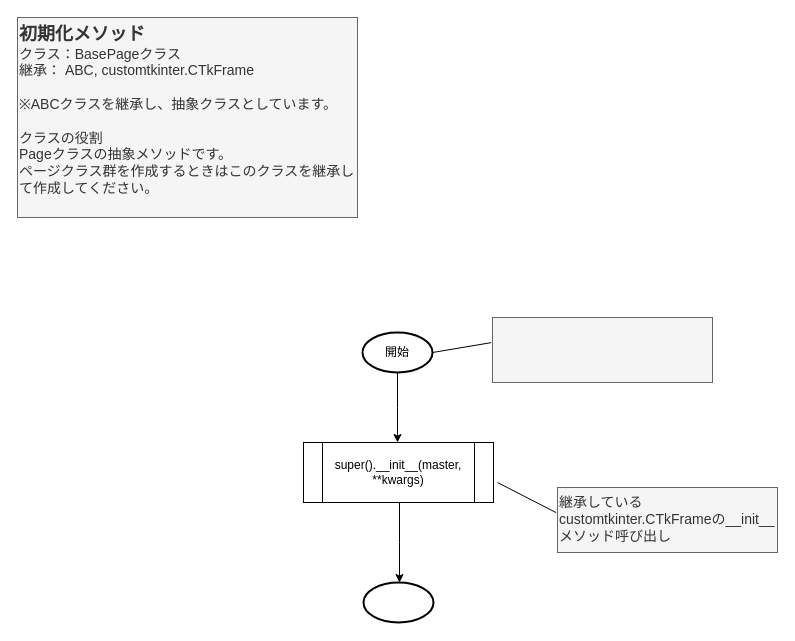
The diagram is 795 pixels wide and 641 high, and some of its shapes have lost their labels. Here are the shapes that lost their labels. From the top down, the centre of each, then its label:
[602,349]: 引数１：self 引数２： master, CTkクラス型 引数３：**kwargs: 辞書型
[398,602]: 終了
